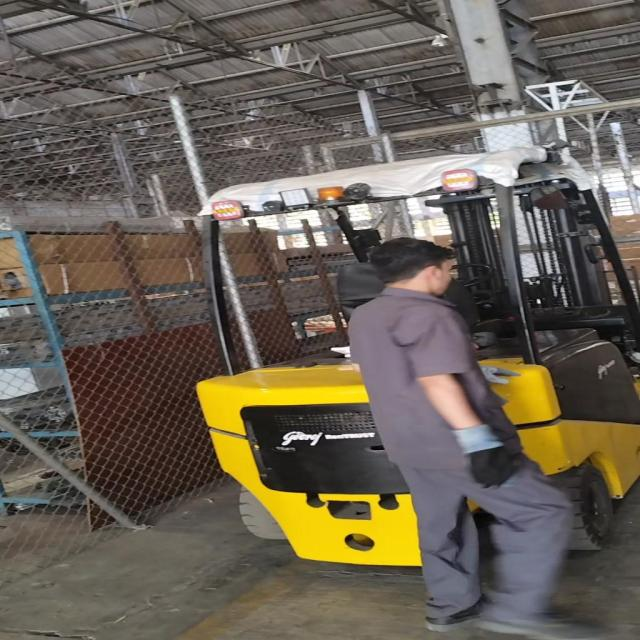Gloves-Detection: (444, 422, 507, 489), (475, 360, 516, 392)
